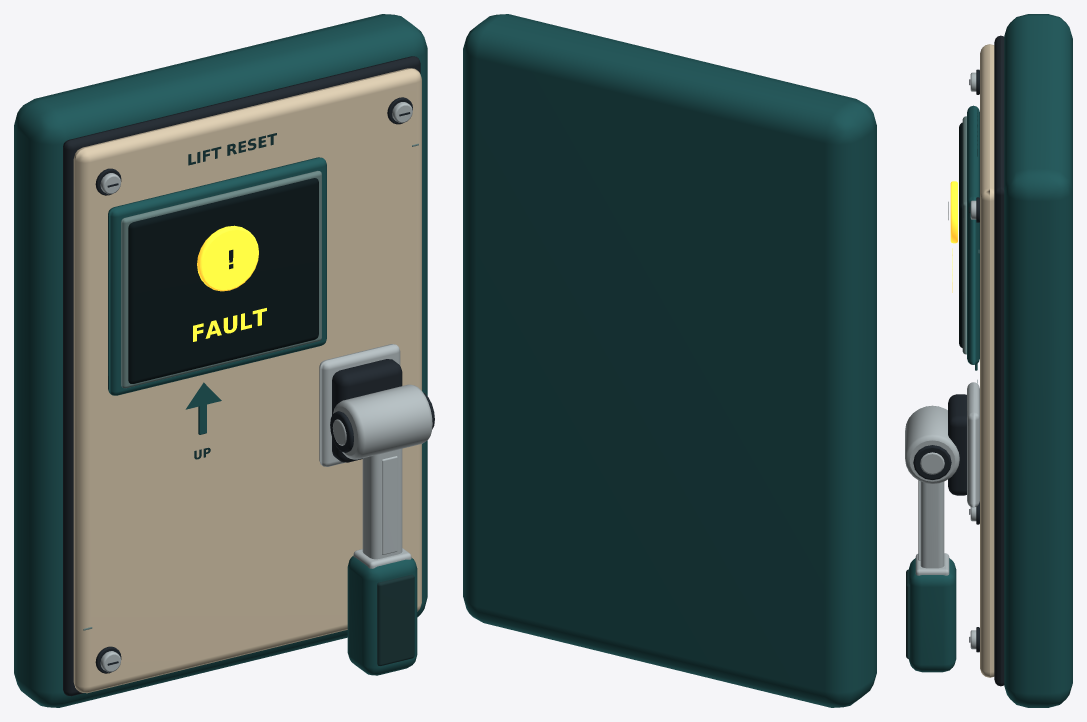
File: Lift_Reset.glb
3 renders of one model, left to right at view 1: azimuth 30°, elevation 25°; view 2: azimuth 150°, elevation 25°; view 3: azimuth 270°, elevation 25°, orthographic. The views are drawn at different scales.
Visible parts, largest first — view 1: Frame, Handle, Status_FAULT; view 2: Frame; view 3: Frame, Handle, Status_FAULT.
Boxes of the visible parts, x1,y1,x2,y2 form: Frame: [14, 14, 434, 707]; Handle: [347, 449, 417, 675]; Status_FAULT: [193, 225, 266, 341]; Frame: [463, 14, 876, 707]; Frame: [905, 14, 1072, 707]; Handle: [906, 480, 956, 672]; Status_FAULT: [948, 181, 957, 292].
Size of what is drawn, in the model's own units: 0.45 by 0.65 by 0.184.
